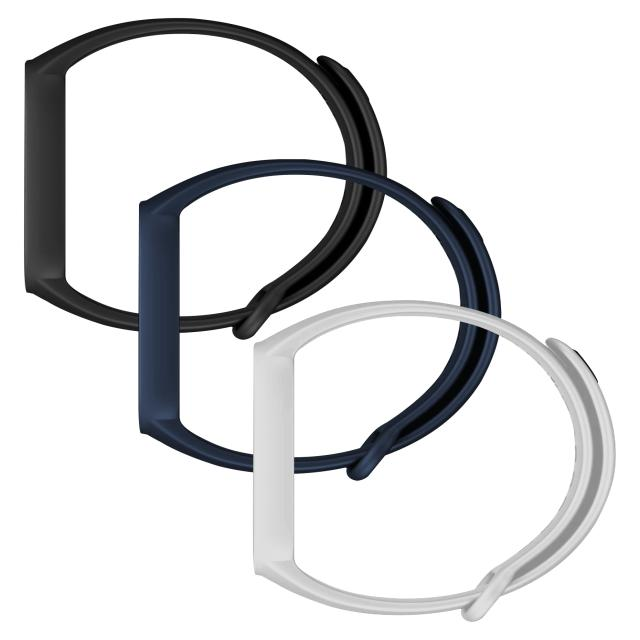bracelet: (106, 130, 574, 523), (212, 262, 640, 640), (10, 13, 405, 360)
